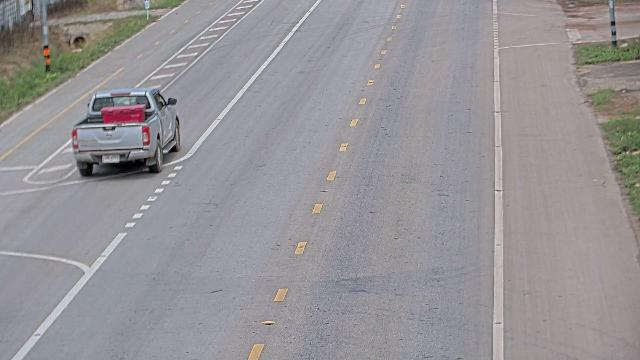pickup-truck: (70, 86, 181, 177)
